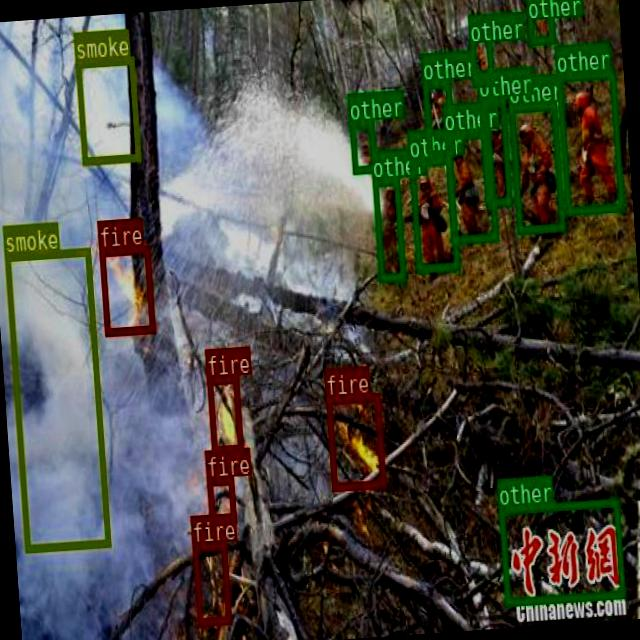fire: (325, 392, 384, 489), (98, 244, 154, 335), (191, 540, 230, 624), (206, 374, 242, 453), (206, 476, 235, 521)
smoke: (3, 247, 110, 551), (74, 55, 140, 163)
